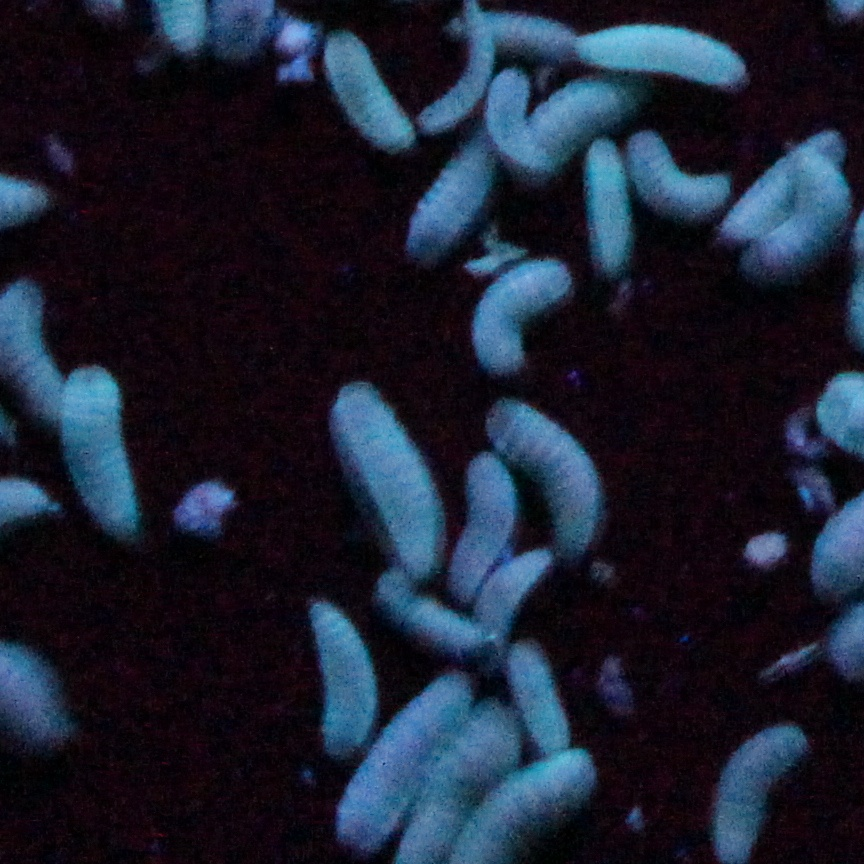larve: (328, 367, 446, 571), (332, 675, 472, 844), (490, 393, 605, 546), (55, 367, 150, 533), (721, 129, 843, 240), (461, 251, 572, 373), (572, 18, 754, 87), (523, 66, 639, 171), (754, 144, 846, 276), (321, 33, 416, 158), (403, 135, 499, 256), (303, 600, 374, 755), (365, 566, 477, 660), (574, 136, 645, 273), (621, 133, 726, 224), (450, 453, 517, 595), (416, 6, 488, 133), (477, 71, 559, 169), (441, 7, 592, 58), (510, 636, 572, 758)
